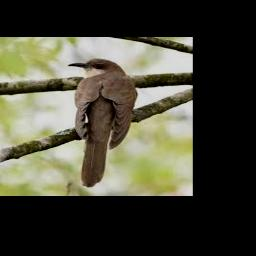Cuckoo: (68, 58, 137, 187)
